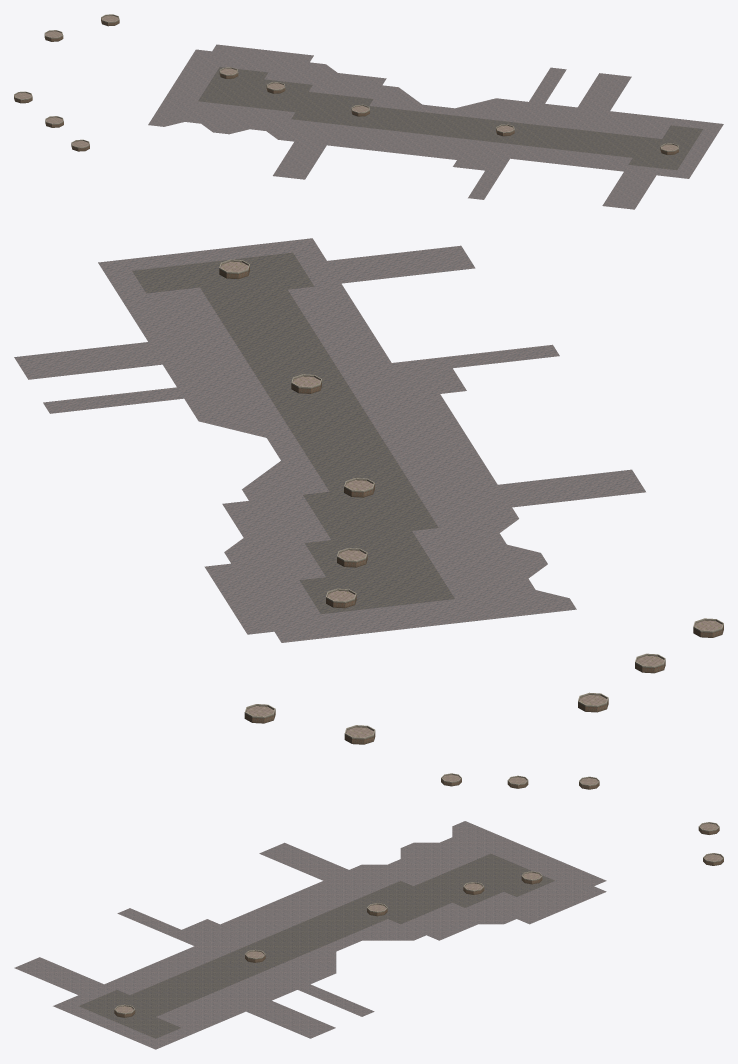
Rendered from pier69_models06.obj.
The picture shows the model from 3 angles, top to bottom: view 1: azimuth 30°, elevation 25°; view 2: azimuth 150°, elevation 25°; view 3: azimuth 270°, elevation 25°; orthographic projection. The views are drawn at different scales.
Parts seen in each view (by area): view 1: pier69_models06; view 2: pier69_models06; view 3: pier69_models06.
Boxes of the visible parts, x1,y1,x2,y2 form: pier69_models06: (14, 14, 723, 209); pier69_models06: (14, 238, 723, 744); pier69_models06: (14, 773, 723, 1049).
Size of the model in its own units: 91.81 by 3.3 by 101.
Materials: 4 (4 with a texture image).
